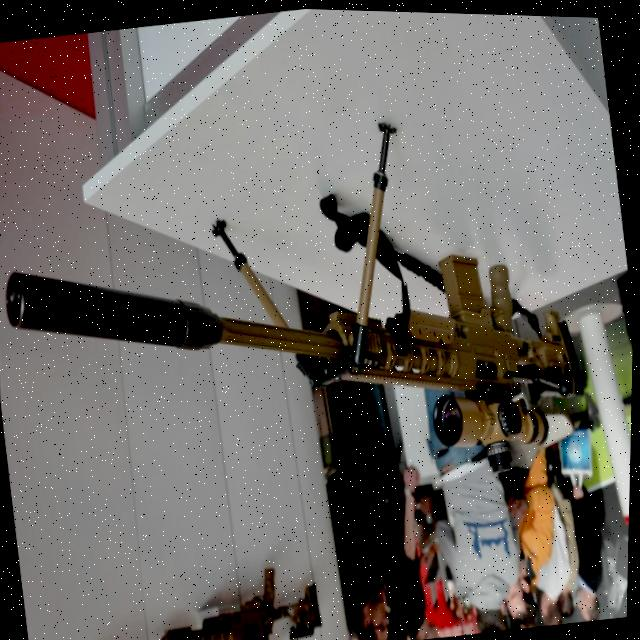firearm: (0, 81, 601, 534), (76, 550, 332, 640)
